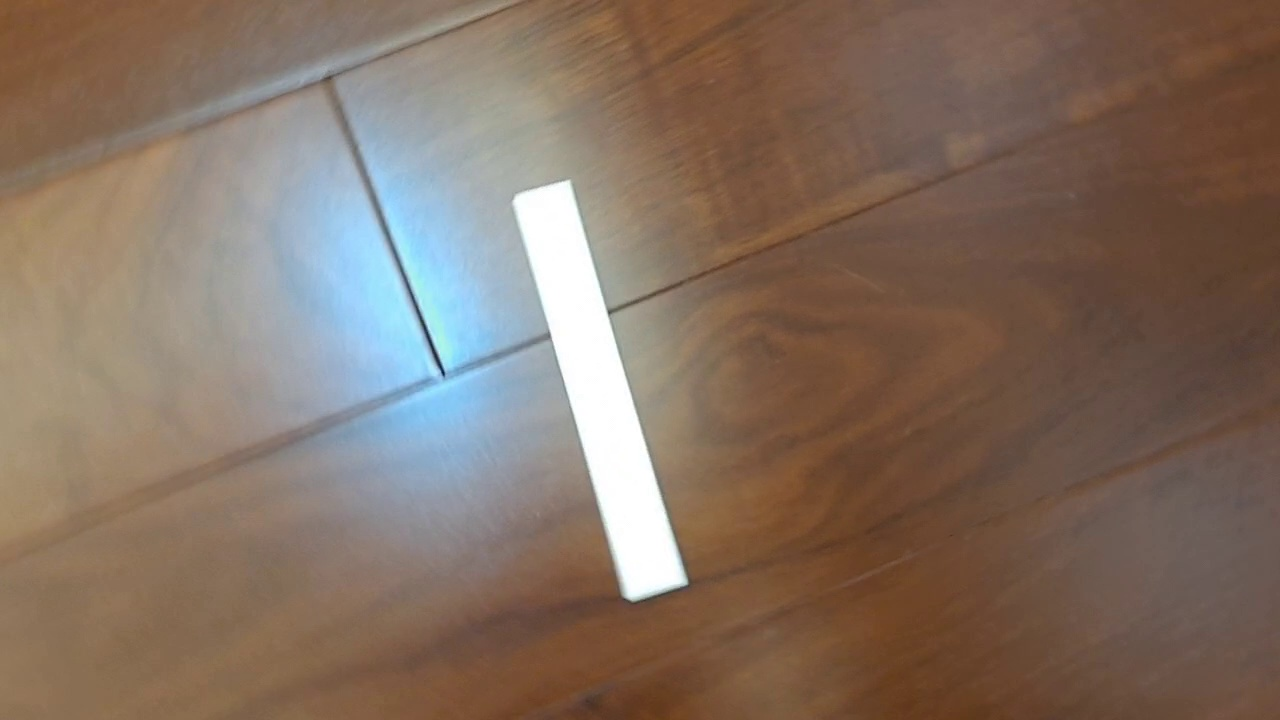ruler: (509, 177, 689, 604)
